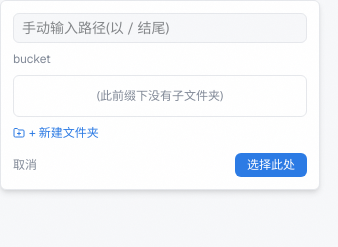
Test: PrefixPicker › manual input rejects invalid prefix (starts with /)
Type "/logs/" into the field with placeholder "手动输入路径(以 / 结尾)".
click(160, 28); type("/logs/")  # box [13,13,307,43]
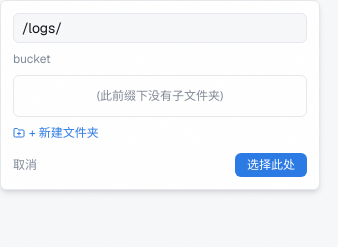
Press Enter in the field with placeholder "手动输入路径(以 / 结尾)", box [13,13,307,43]
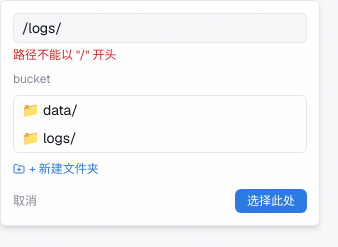
Result: the text "路径不能以 \"/\" 开头" is shown at [13,47,116,63]
